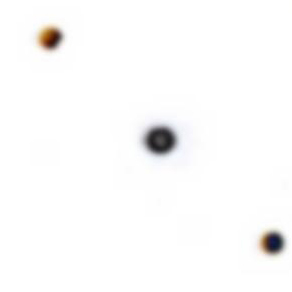abnormal: (247, 221, 290, 262)
cancer: (129, 108, 205, 174)
normal: (29, 17, 79, 60)
